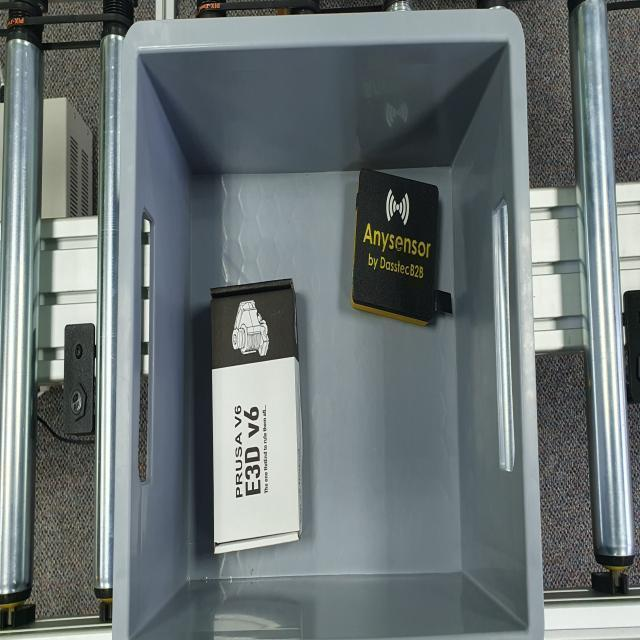box: (210, 281, 304, 544), (354, 166, 440, 322)
